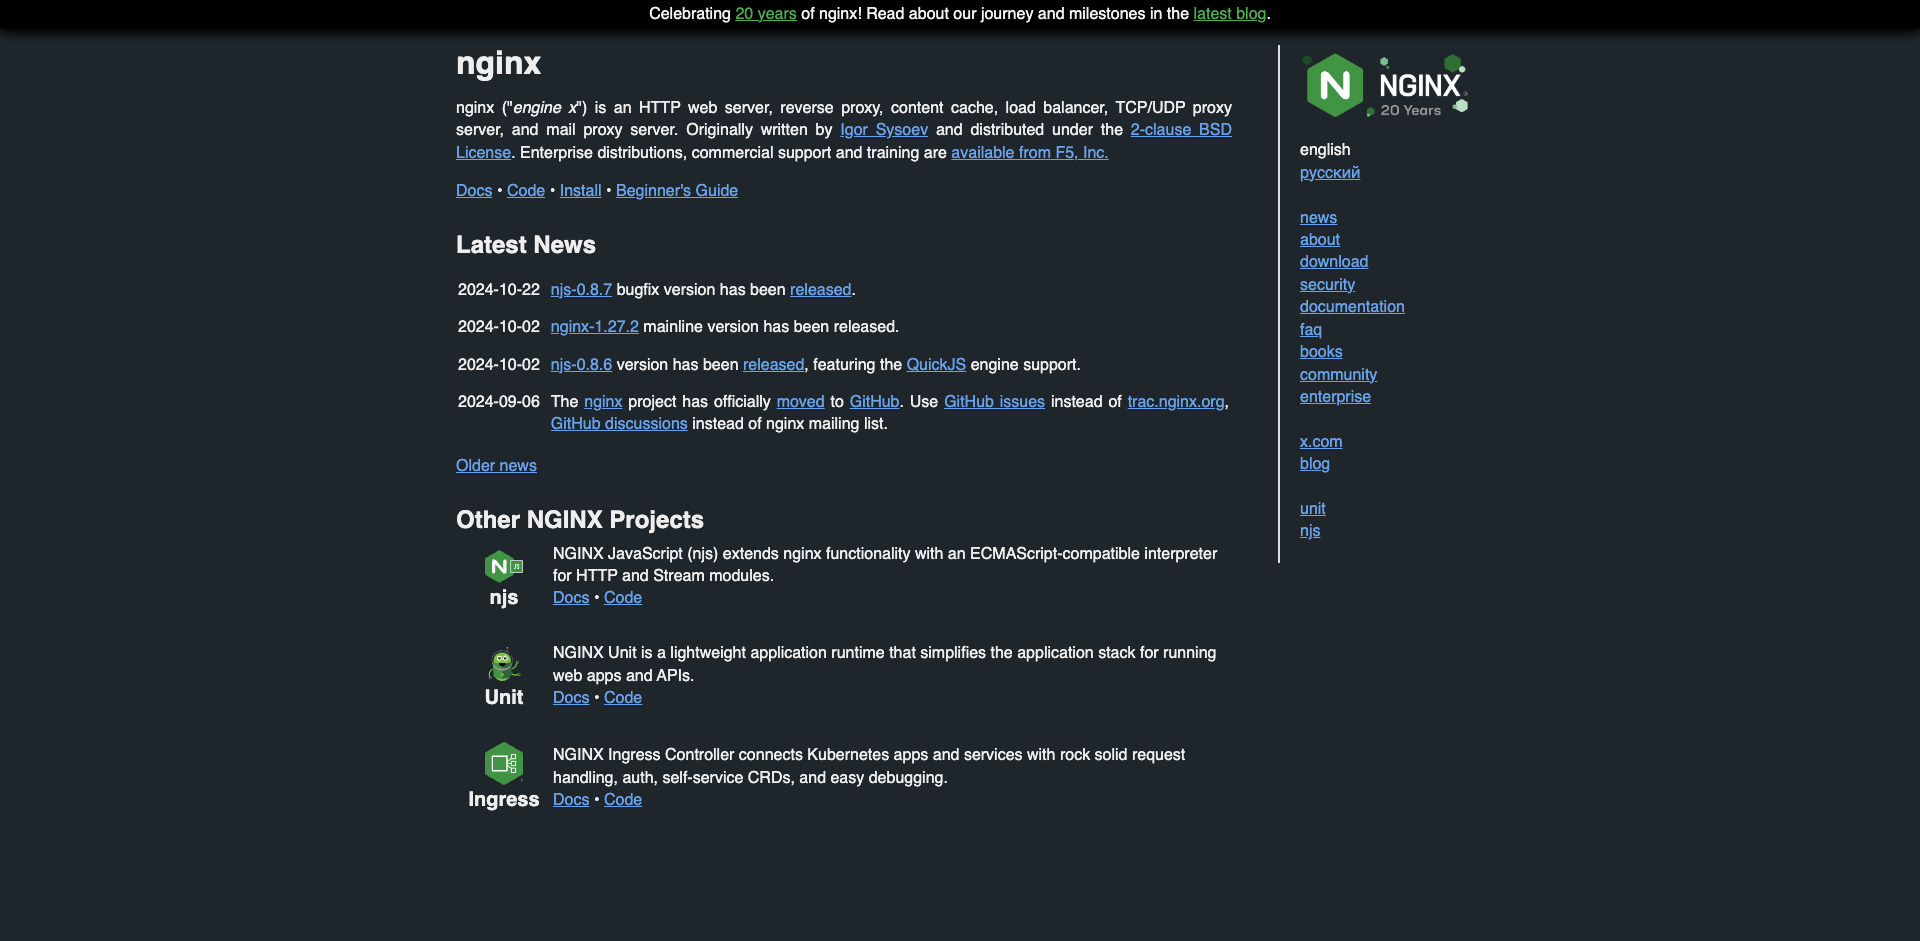link: (456, 121, 1232, 162), (1300, 53, 1468, 119), (951, 143, 1108, 162), (551, 415, 688, 434), (616, 183, 738, 200), (1300, 298, 1404, 316), (944, 393, 1046, 410), (1128, 393, 1224, 410), (840, 121, 928, 140), (551, 319, 639, 336), (456, 457, 536, 475), (1300, 365, 1378, 384), (1194, 5, 1266, 23), (1300, 254, 1369, 272), (1300, 388, 1371, 406), (736, 5, 797, 23), (551, 281, 612, 299), (790, 281, 851, 299), (551, 355, 612, 374), (743, 355, 804, 374), (906, 355, 966, 374), (1300, 164, 1360, 181), (1300, 276, 1356, 294), (850, 393, 900, 410), (776, 393, 824, 410), (1300, 343, 1343, 361), (1300, 433, 1343, 451), (560, 183, 601, 200), (604, 589, 642, 608), (485, 669, 523, 687), (604, 689, 642, 707), (485, 771, 523, 789), (1300, 208, 1337, 227), (1300, 232, 1340, 249), (553, 589, 589, 608), (553, 689, 589, 707), (507, 183, 545, 200), (584, 393, 622, 410), (485, 570, 523, 587), (604, 792, 642, 809), (456, 183, 492, 200), (553, 792, 589, 809), (1300, 455, 1330, 473), (1300, 500, 1326, 518), (1300, 321, 1322, 338), (1300, 522, 1320, 540)
